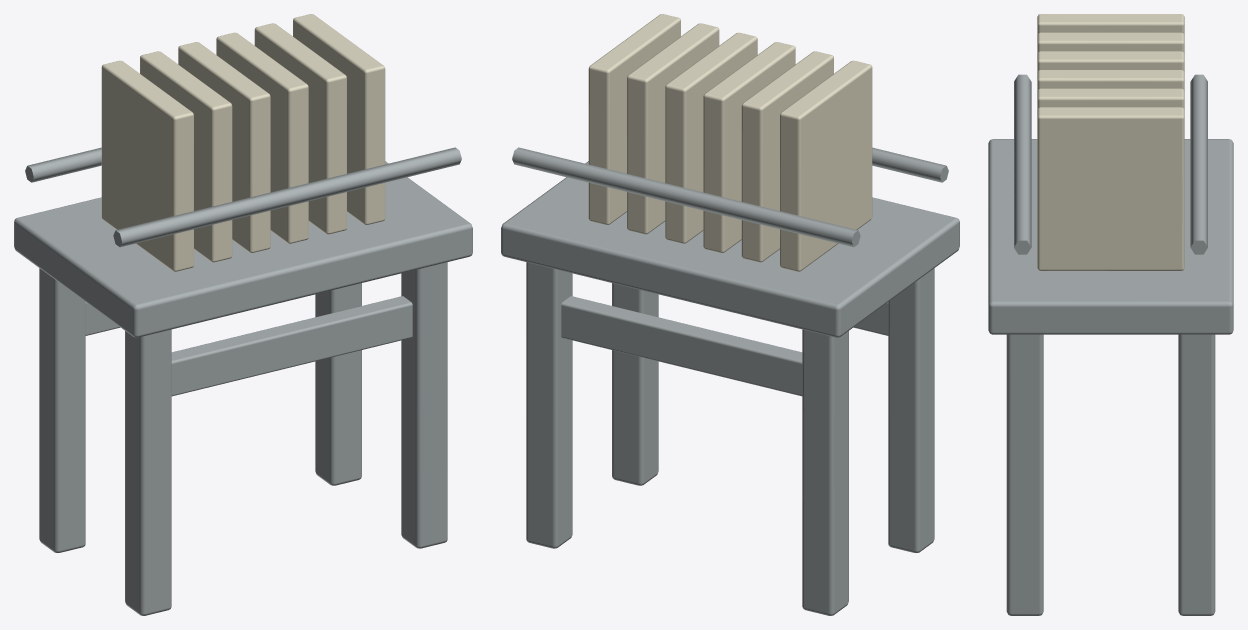
The model's file is salvage-and-repair-workshop-filter-press-5d6a7119__25492.glb.
3 views of the same model, side by side, from view 1: azimuth 30°, elevation 25°; view 2: azimuth 150°, elevation 25°; view 3: azimuth 270°, elevation 25° (orthographic).
Parts seen in each view (by area): view 1: filter-press; view 2: filter-press; view 3: filter-press.
Part boxes in pixels (left/top/right/bottom): filter-press: left=14, top=14, right=472, bottom=615; filter-press: left=501, top=14, right=959, bottom=615; filter-press: left=988, top=14, right=1233, bottom=615.
Size of the model in its own units: 0.8 by 1.08 by 0.5.
